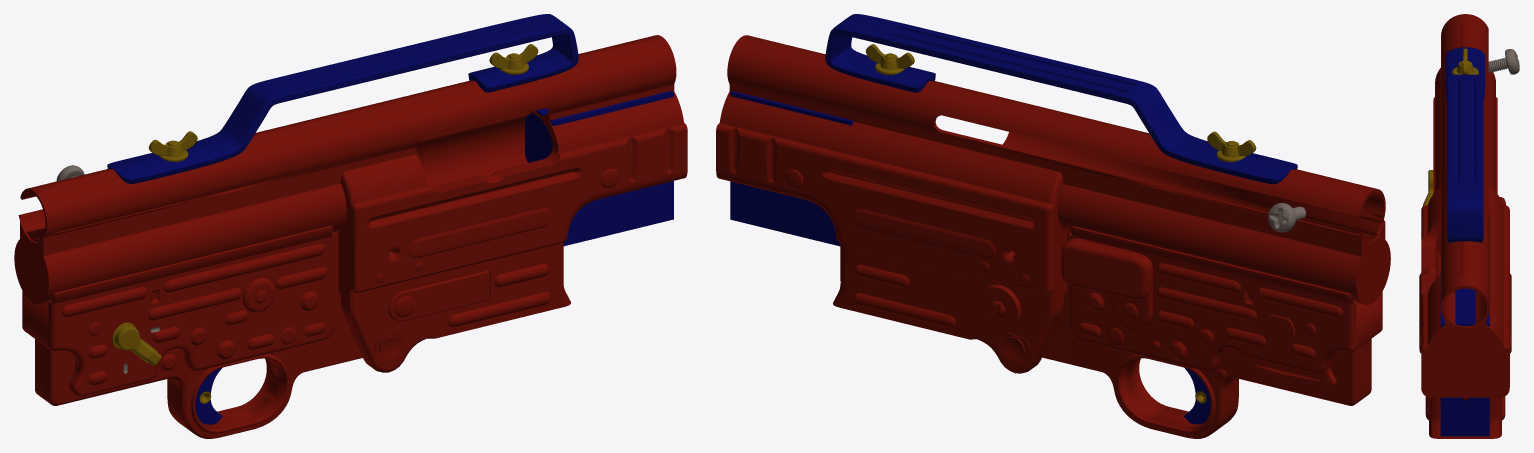
File: body_03.fbx
3 renders of one model, left to right at view 1: azimuth 30°, elevation 25°; view 2: azimuth 150°, elevation 25°; view 3: azimuth 270°, elevation 25°, orthographic. The views are drawn at different scales.
Parts seen in each view (by area): view 1: Body_Recievers.002; view 2: Body_Recievers.002; view 3: Body_Recievers.002.
Boxes of the visible parts, <box> form: Body_Recievers.002: <box>14,14,687,438</box>; Body_Recievers.002: <box>716,14,1390,438</box>; Body_Recievers.002: <box>1419,14,1519,438</box>.
Size of the model in its own units: 115 by 57.28 by 17.92.
